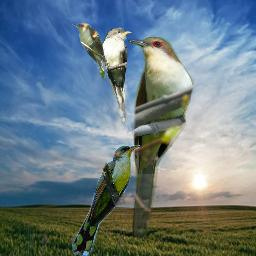Cuckoo: (127, 36, 195, 237), (72, 145, 140, 256), (101, 27, 132, 124), (71, 22, 107, 81)
